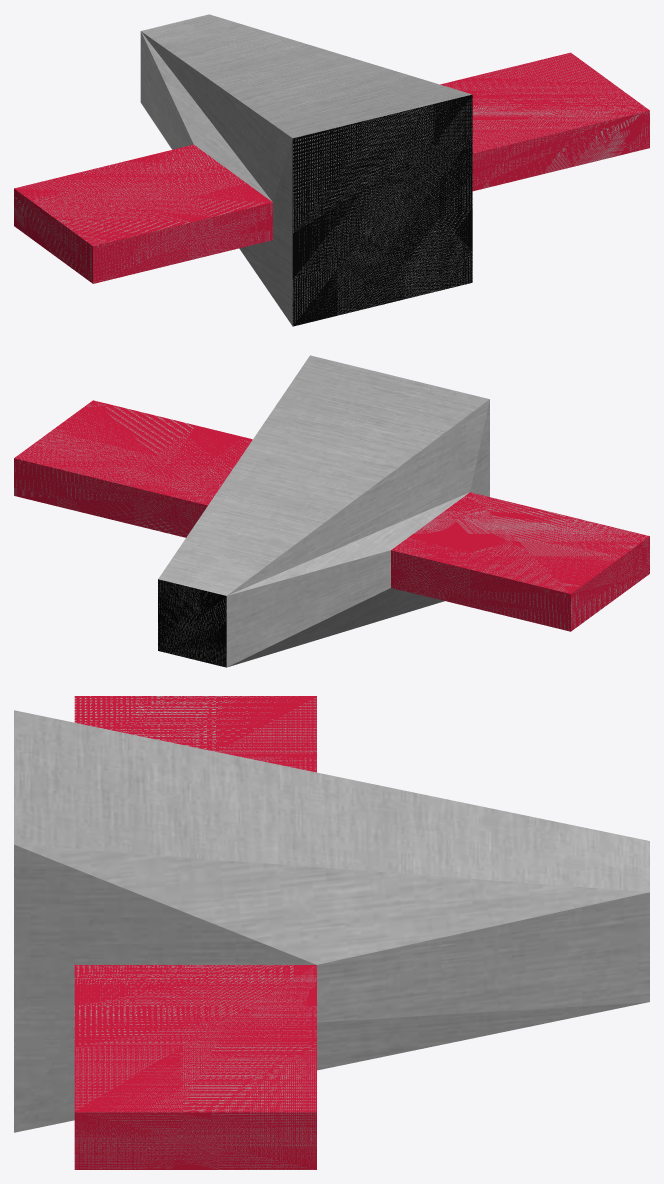
File: ship.dae
The picture shows the model from 3 angles, top to bottom: view 1: azimuth 30°, elevation 25°; view 2: azimuth 150°, elevation 25°; view 3: azimuth 270°, elevation 25°; orthographic projection. The views are drawn at different scales.
Parts seen in each view (by area): view 1: Component (×4); view 2: Component (×4); view 3: Component (×3).
Part boxes in pixels (x1=…): Component (×4): x1=14, y1=14, x2=649, y2=326; Component (×4): x1=14, y1=355, x2=649, y2=667; Component (×3): x1=14, y1=696, x2=649, y2=1169.
Size of the model in its own units: 60.94 by 39.37 by 19.69.
Materials: 3 (1 with a texture image).
